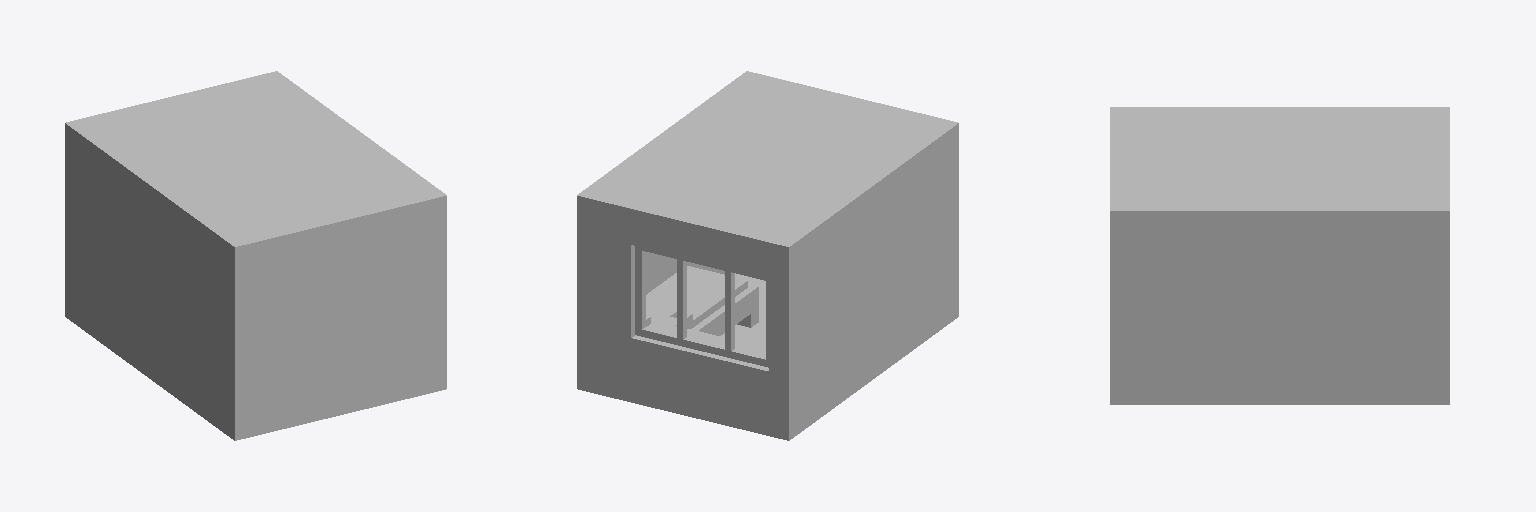
Rendered from Menu.obj.
3 renders of one model, left to right at view 1: azimuth 30°, elevation 25°; view 2: azimuth 150°, elevation 25°; view 3: azimuth 270°, elevation 25°, orthographic.
Visible parts, largest first — view 1: Content; view 2: Content; view 3: Content.
Boxes of the visible parts, <box> form: Content: <box>65,71,446,440</box>; Content: <box>577,71,958,440</box>; Content: <box>1110,107,1449,404</box>.
Size of the model in its own units: 3.1 by 2.7 by 4.3.